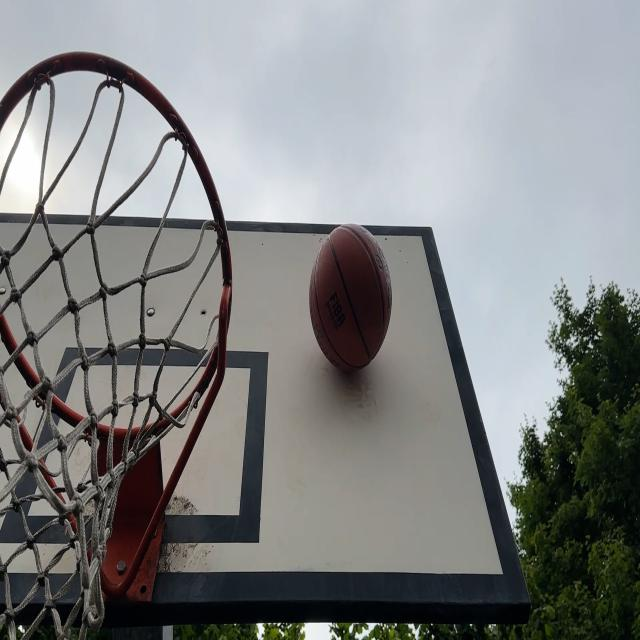rebound_hit: (310, 223, 393, 390)
